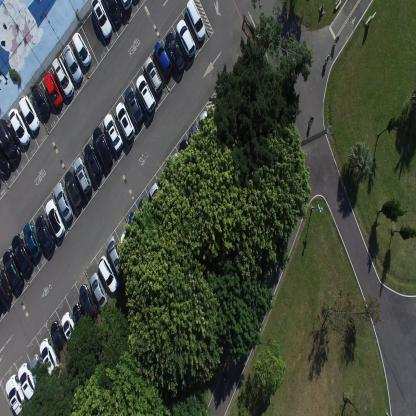car: (51, 56, 74, 100), (11, 232, 33, 276), (164, 31, 186, 73), (0, 118, 20, 164), (185, 0, 206, 43), (62, 43, 83, 86), (5, 374, 27, 415), (2, 249, 22, 293), (90, 0, 112, 40), (8, 107, 30, 147), (97, 252, 119, 292), (135, 72, 156, 113), (92, 125, 113, 166), (18, 94, 40, 132), (176, 17, 196, 58), (115, 101, 135, 142), (103, 112, 123, 153), (53, 182, 73, 223), (45, 198, 65, 239), (143, 54, 163, 94), (17, 362, 37, 402), (35, 214, 55, 253), (71, 30, 91, 69), (40, 338, 60, 377), (124, 84, 143, 125), (83, 142, 103, 180), (64, 169, 83, 209), (106, 234, 124, 276), (61, 311, 80, 350), (72, 156, 91, 194), (43, 71, 62, 109), (78, 283, 98, 319), (72, 301, 90, 341), (153, 40, 172, 77), (31, 82, 50, 119), (199, 110, 219, 145), (23, 222, 41, 260), (29, 354, 46, 394), (50, 320, 68, 357), (90, 270, 107, 308), (148, 182, 166, 216), (120, 228, 138, 262), (178, 138, 195, 172), (102, 0, 122, 27), (127, 210, 145, 240), (170, 151, 186, 184), (137, 196, 154, 227), (190, 122, 206, 154), (0, 264, 12, 302), (0, 145, 12, 175), (118, 0, 133, 14)
